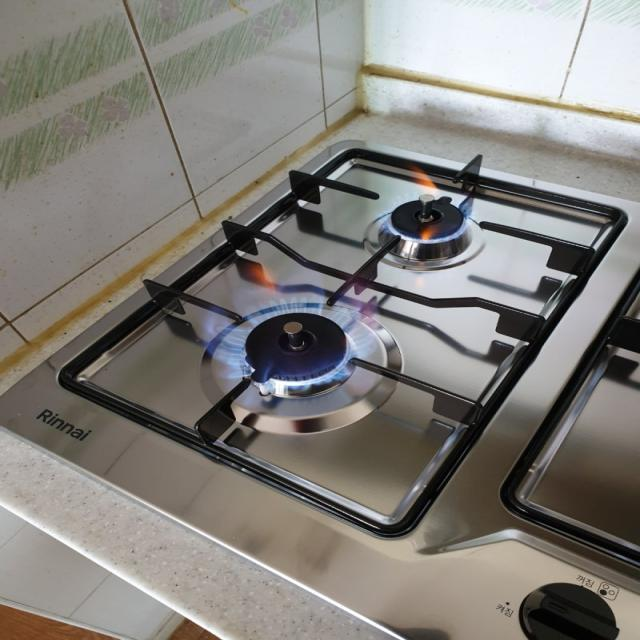knob_OFF: (173, 275, 430, 451), (350, 157, 522, 289)
